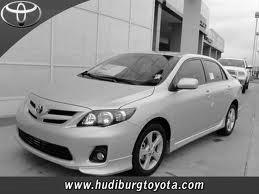car: (8, 50, 247, 177)
